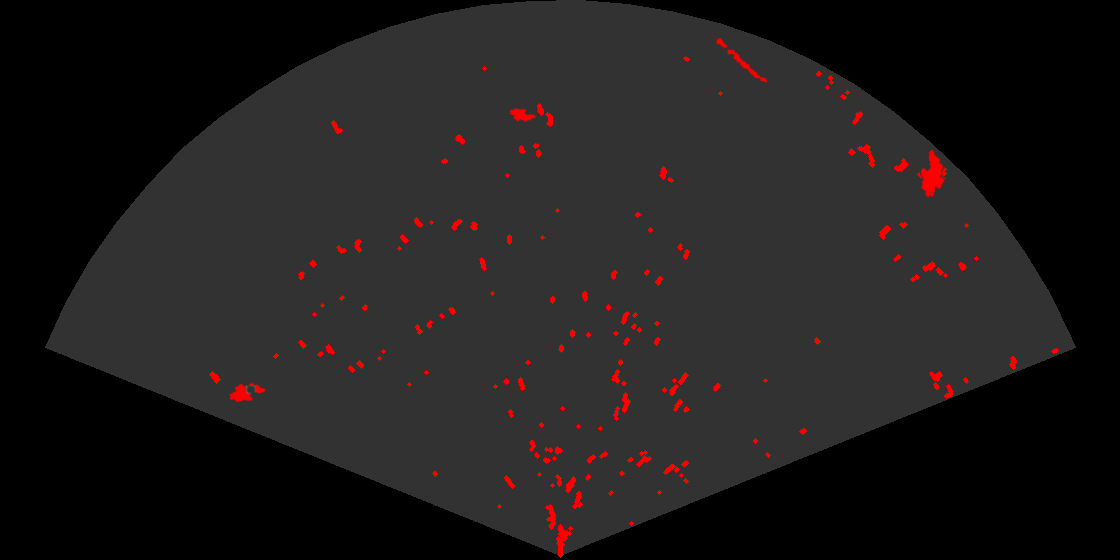AUV: (919, 148, 946, 199), (227, 381, 268, 404), (508, 107, 538, 123)
chain: (708, 33, 770, 87)
